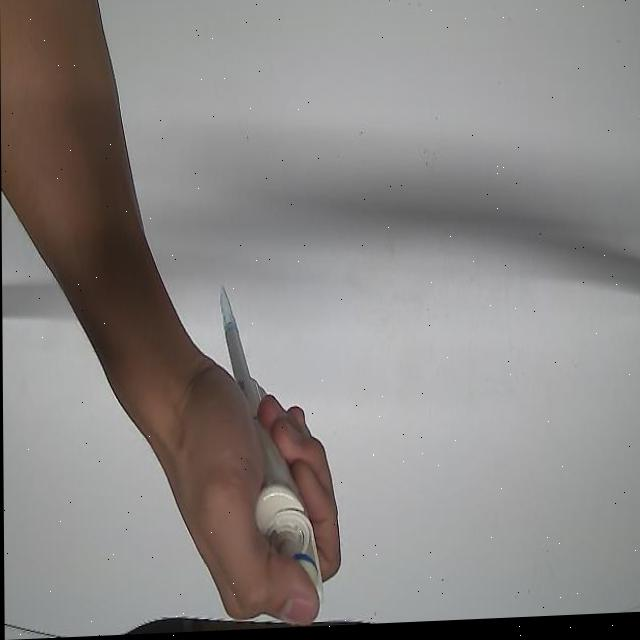Single Channel Pipettor: (221, 323, 325, 623)
